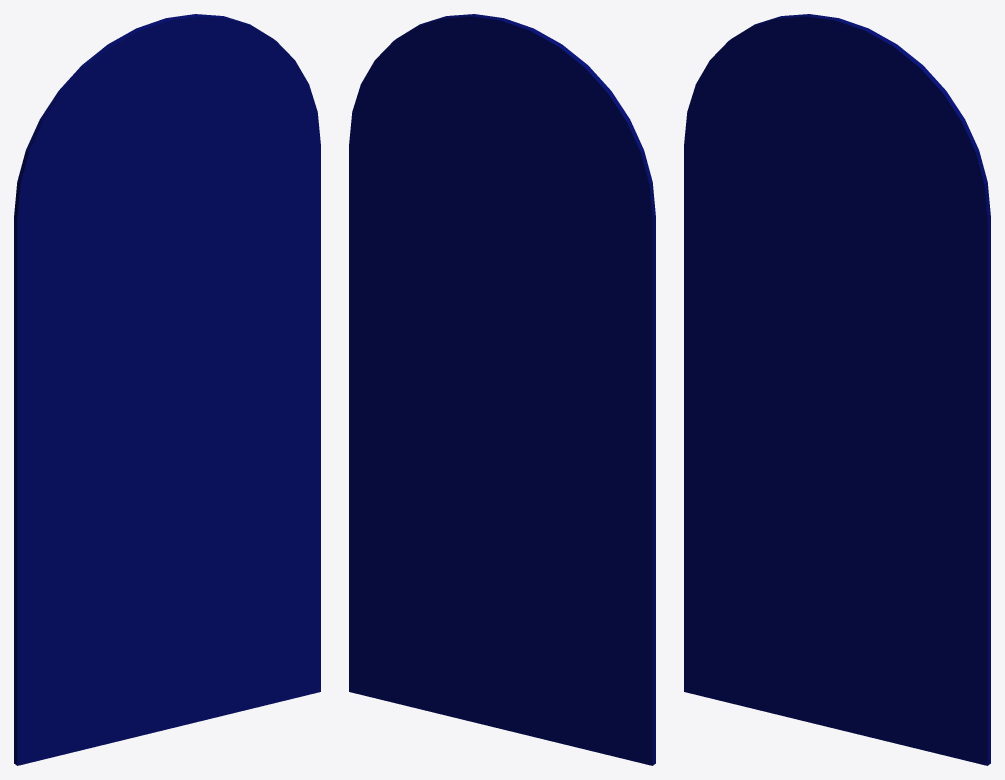
The model's file is in_door.fbx.
3 views of the same model, side by side, from view 1: azimuth 30°, elevation 25°; view 2: azimuth 150°, elevation 25°; view 3: azimuth 330°, elevation 25° (orthographic).
Parts seen in each view (by area): view 1: indoor.001; view 2: indoor.001; view 3: indoor.001.
Boxes of the visible parts, x1,y1,x2,y2 form: indoor.001: [14, 14, 320, 765]; indoor.001: [349, 14, 655, 765]; indoor.001: [684, 14, 990, 765].
Bounding box in the file's own units: 162 × 361 × 3.03.
